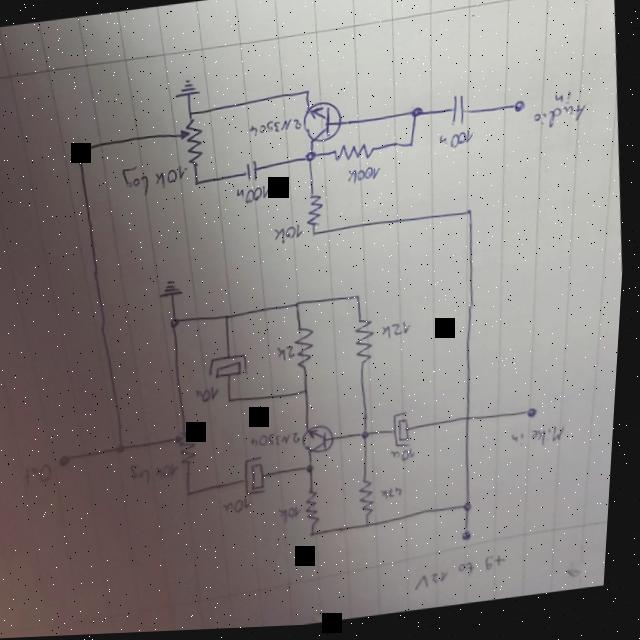capacitor: (211, 353, 257, 383), (247, 458, 275, 500), (395, 414, 420, 454), (448, 96, 472, 131), (245, 163, 263, 186)
crossover: (469, 418, 478, 429)
ground: (174, 79, 203, 103), (161, 279, 189, 302)
junction: (411, 108, 427, 124), (306, 153, 320, 168), (173, 317, 186, 333), (76, 143, 88, 159), (366, 432, 378, 446), (311, 465, 322, 479), (121, 443, 132, 457), (226, 313, 237, 327), (469, 505, 480, 518), (306, 389, 316, 400), (409, 143, 419, 154), (296, 303, 306, 314), (314, 532, 324, 543), (468, 211, 478, 222), (305, 89, 314, 101), (188, 109, 197, 121), (191, 490, 200, 502), (231, 397, 240, 408), (195, 179, 204, 190), (357, 295, 366, 306), (313, 233, 322, 243), (370, 525, 379, 534)
resistor: (355, 317, 383, 370), (179, 120, 209, 169), (296, 326, 323, 375), (334, 143, 380, 169), (178, 427, 205, 470), (362, 480, 384, 523), (309, 490, 329, 530), (307, 195, 328, 233)
terminal: (512, 103, 528, 120), (63, 454, 79, 470), (531, 411, 544, 425), (467, 534, 480, 548)
text: (417, 556, 517, 595), (122, 159, 194, 203), (532, 92, 591, 136), (515, 426, 572, 455), (132, 460, 187, 490), (248, 118, 304, 142), (254, 431, 308, 455), (26, 462, 61, 490), (238, 185, 277, 207), (440, 132, 479, 154), (275, 225, 309, 249), (348, 167, 385, 189), (226, 496, 259, 518), (384, 323, 416, 343), (198, 386, 226, 407), (283, 506, 309, 527), (395, 450, 422, 468), (385, 488, 411, 505), (279, 348, 301, 367)
transistor: (302, 101, 348, 150), (306, 425, 344, 461)
